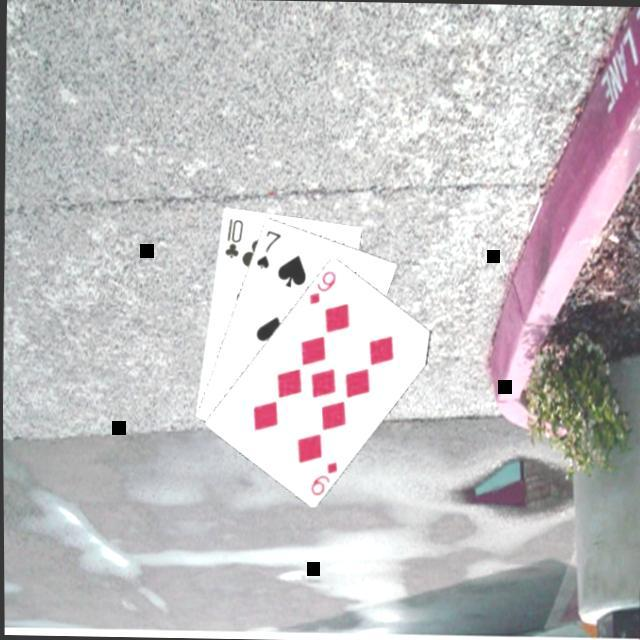10C: (221, 216, 246, 262)
7S: (252, 225, 284, 272)
9D: (304, 267, 340, 308), (306, 458, 341, 498)
